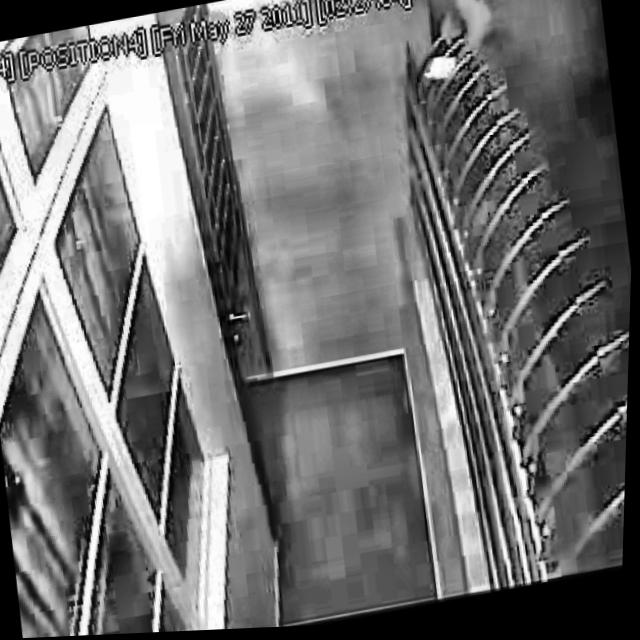burglary: (362, 0, 538, 178)
